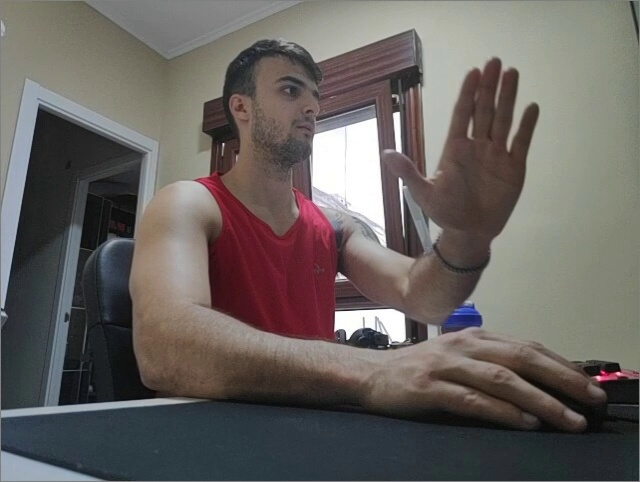Palm: (381, 52, 540, 243)
